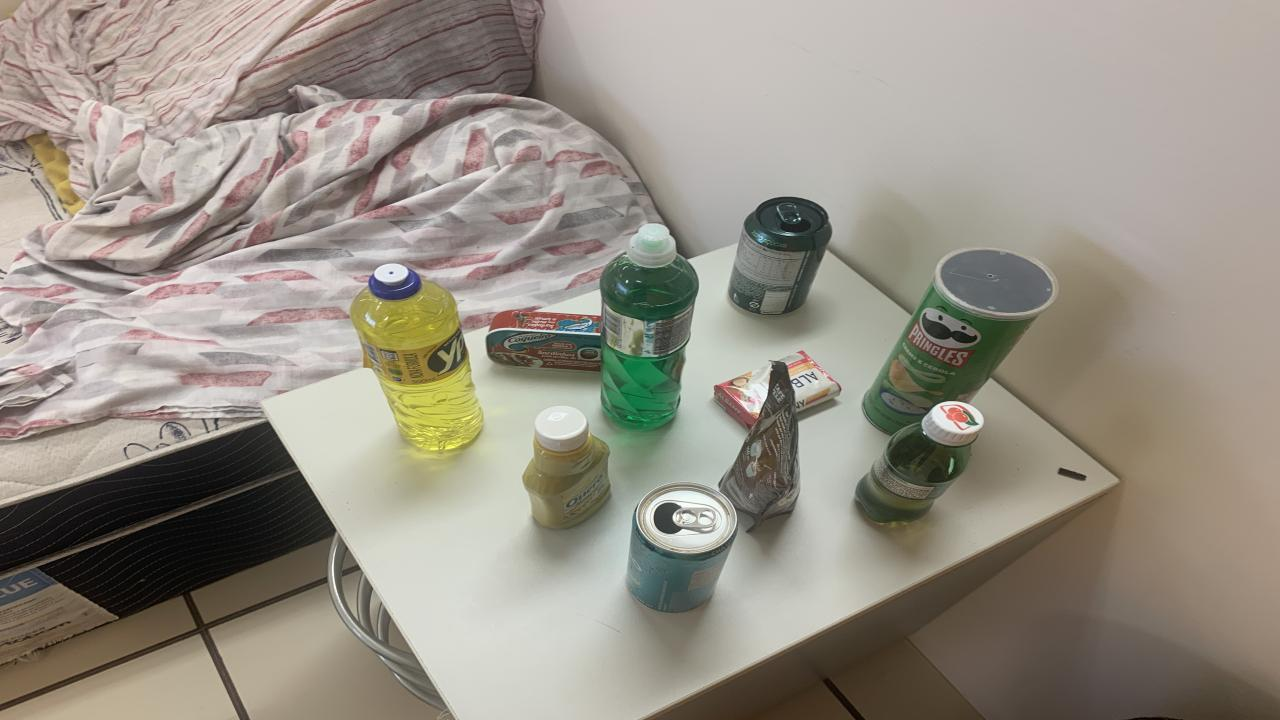Coffee-Pantry_Items: (718, 360, 800, 531)
Detergent-Cleanup_Items: (350, 264, 482, 450), (600, 223, 700, 429)
Guarana-Drinks: (855, 401, 985, 523)
Guarana_Can-Drinks: (728, 197, 832, 315)
Mustard-Pantry_Items: (522, 407, 610, 529)
Pringles-Snacks: (862, 248, 1058, 433)
Soap-Cleanup_Items: (715, 364, 770, 428), (782, 351, 840, 411)
Tea-Drinks: (628, 482, 738, 613)
Tuna_Can-Pantry_Items: (488, 311, 602, 371)
